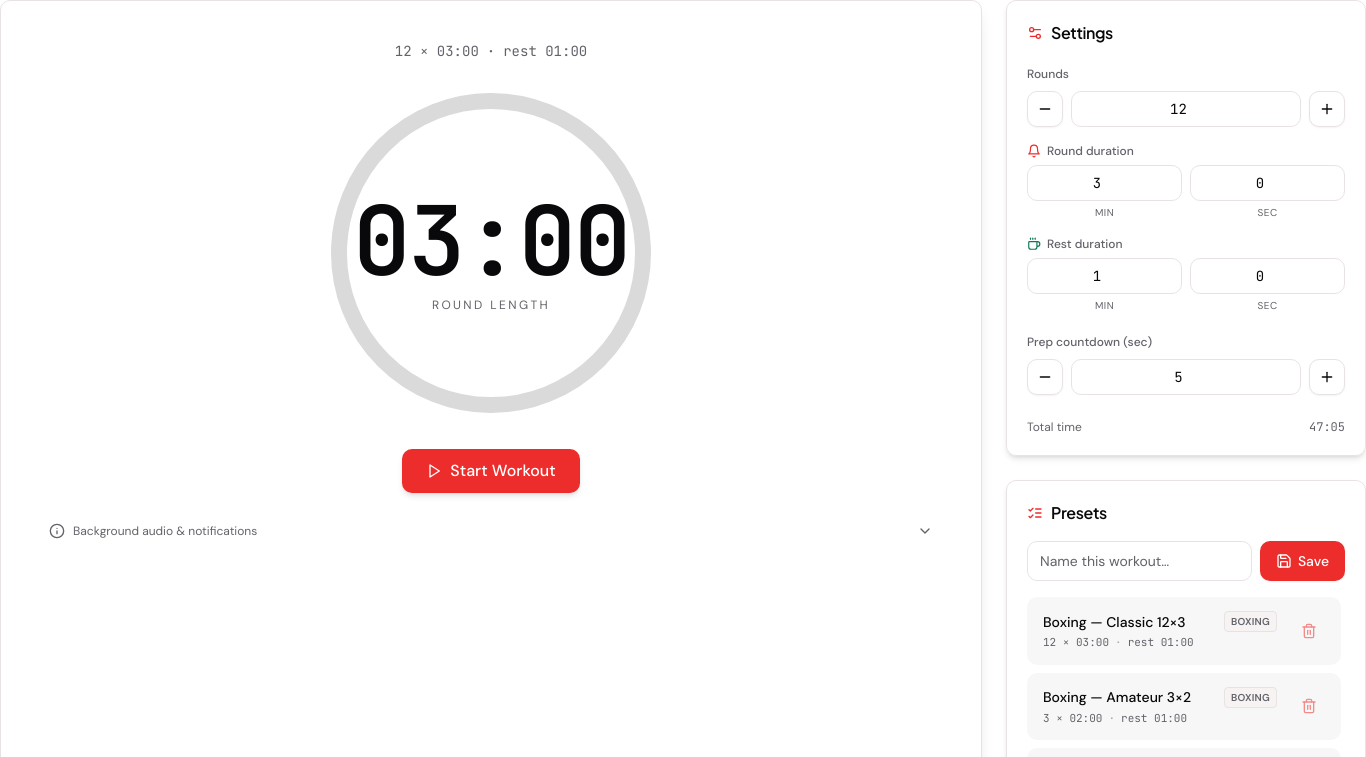
Scenario: BoxingTimer background/foreground flow › reports a finished workout when the hidden interval outlasts the whole timeline
The image size is (1366, 757).
Click the button "Start Workout".
click(491, 471)  # box [402, 449, 580, 493]
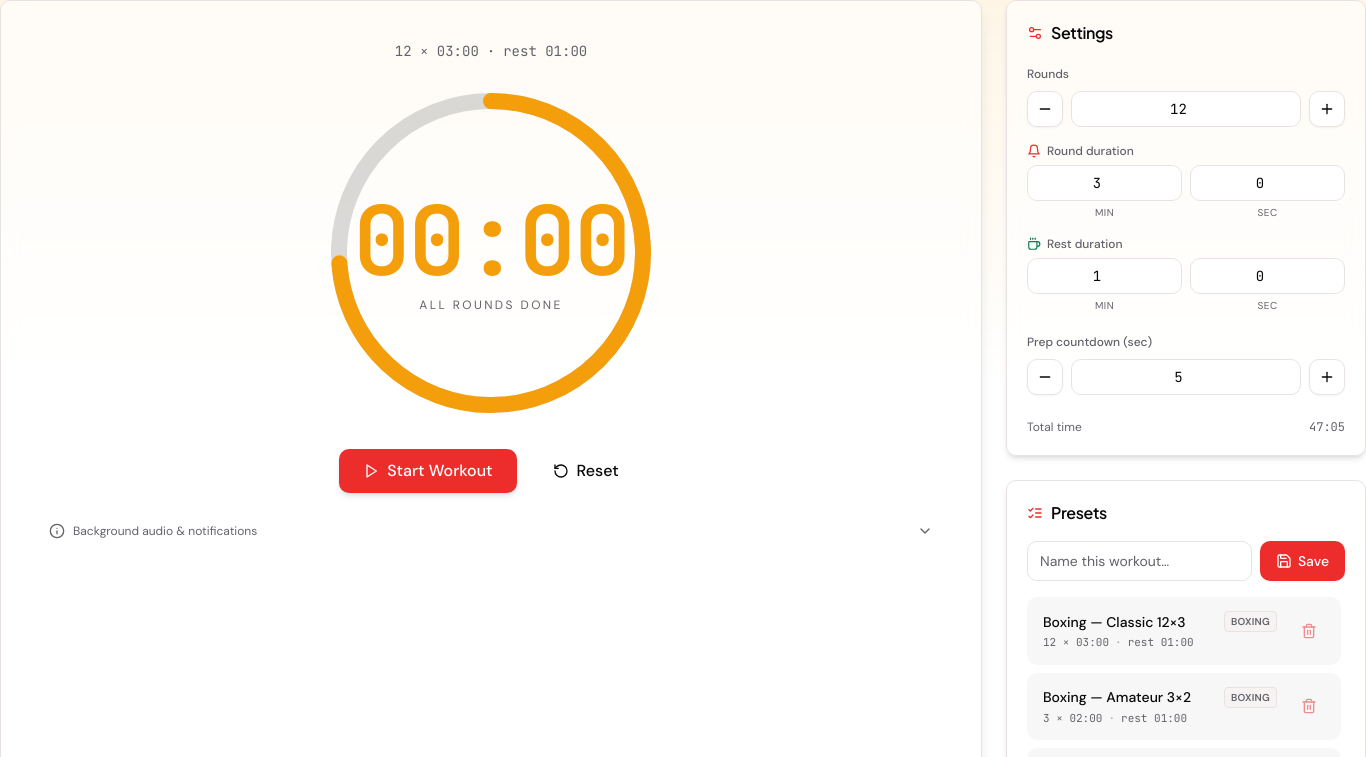
Check: the button "Start Workout" is shown, box [339, 449, 517, 493]
Check: the text "All rounds done" is shown, box [419, 297, 563, 313]
